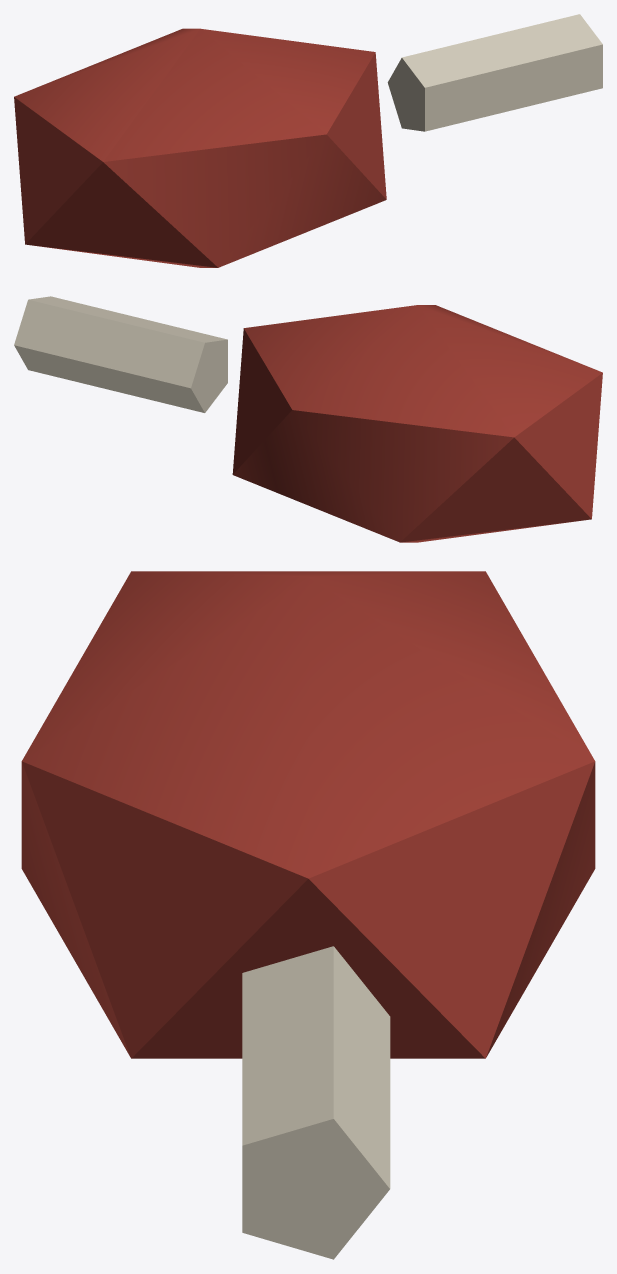
Rendered from good_2.glb.
The picture shows the model from 3 angles, top to bottom: view 1: azimuth 30°, elevation 25°; view 2: azimuth 150°, elevation 25°; view 3: azimuth 270°, elevation 25°; orthographic projection. The views are drawn at different scales.
Parts seen in each view (by area): view 1: good_2; view 2: good_2; view 3: good_2.
Boxes of the visible parts, x1=… form: good_2: x1=14, y1=14, x2=602, y2=267; good_2: x1=14, y1=296, x2=602, y2=542; good_2: x1=21, y1=571, x2=595, y2=1259.
Bounding box in the file's own units: 0.189 × 0.077 × 0.0842.
